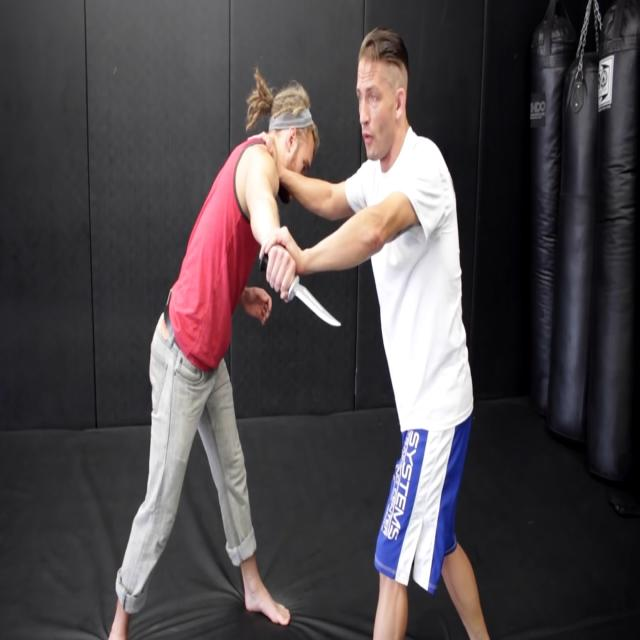knife: (286, 272, 344, 334)
